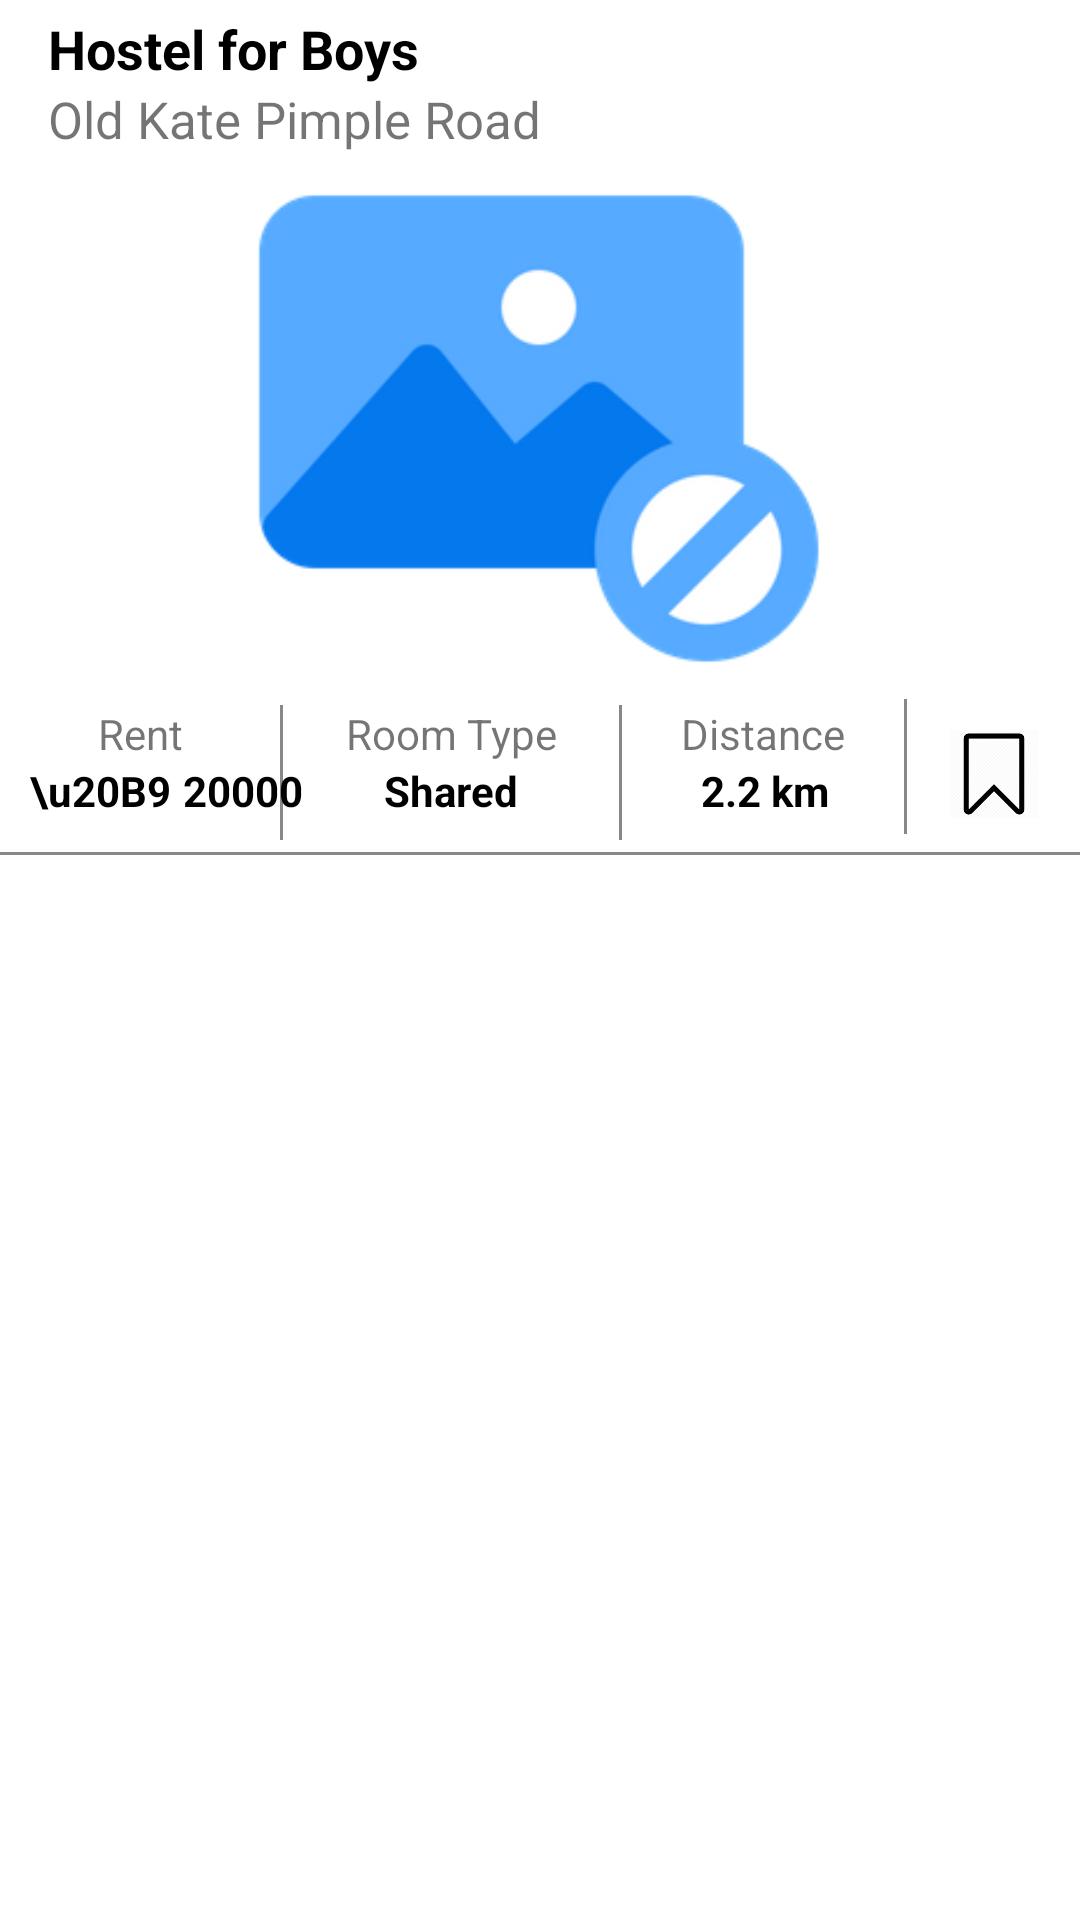

Screen size 1080px x 1920px. Icon name, then its center in pixels as [x,y]:
save for later: [994,774]
